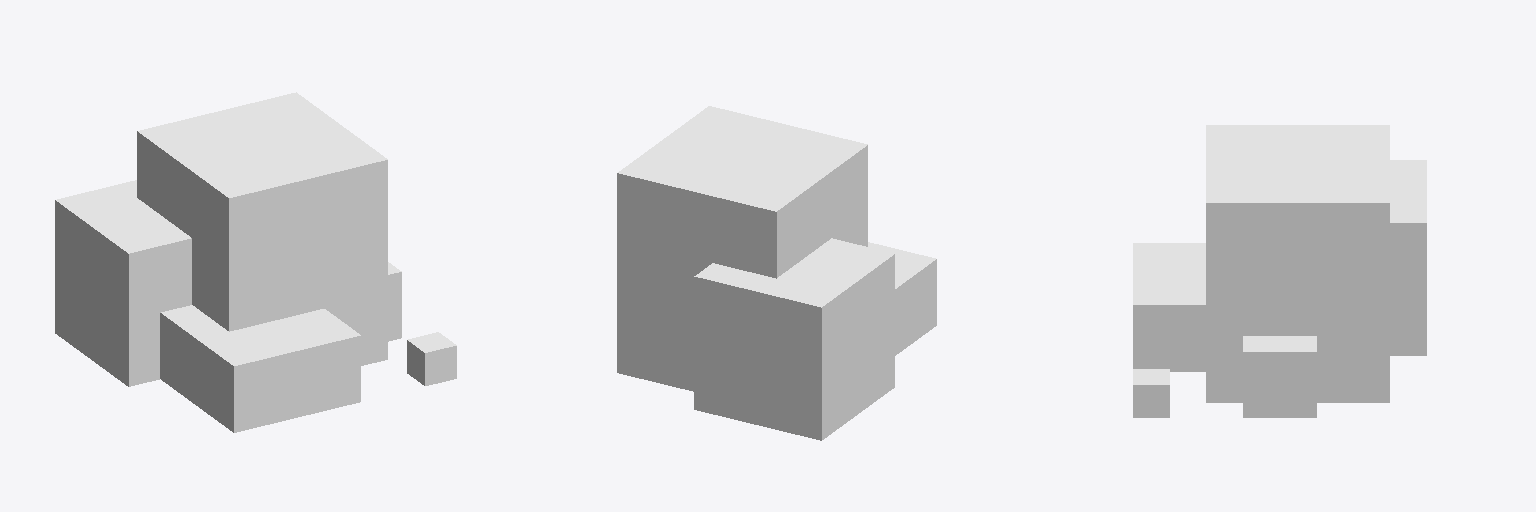
Rendered from StoneOre.obj.
3 views of the same model, side by side, from view 1: azimuth 30°, elevation 25°; view 2: azimuth 150°, elevation 25°; view 3: azimuth 270°, elevation 25° (orthographic).
Visible parts, largest first — view 1: object 1; view 2: object 1; view 3: object 1.
Part boxes in pixels (left/top/right/bottom): object 1: left=55, top=92, right=456, bottom=432; object 1: left=617, top=106, right=936, bottom=440; object 1: left=1133, top=125, right=1426, bottom=417.
Bounding box in the file's own units: 0.8 × 0.6 × 0.8.